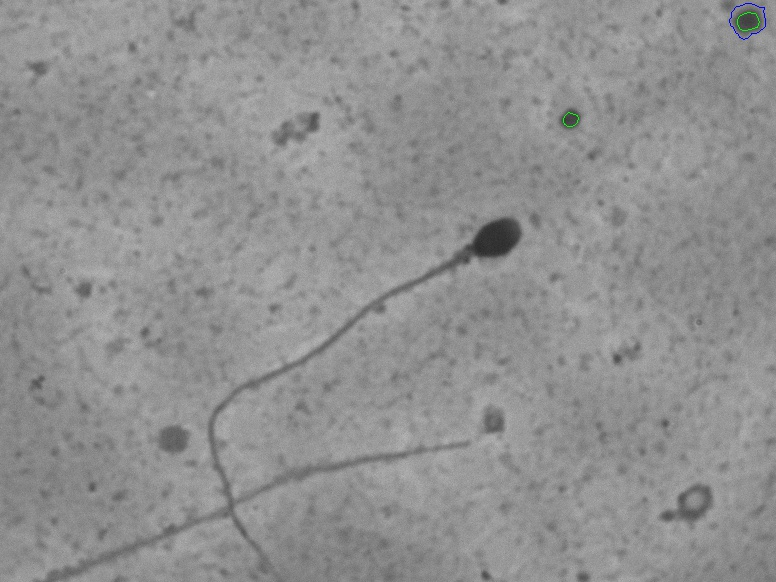Normal: (192, 200, 535, 569)
